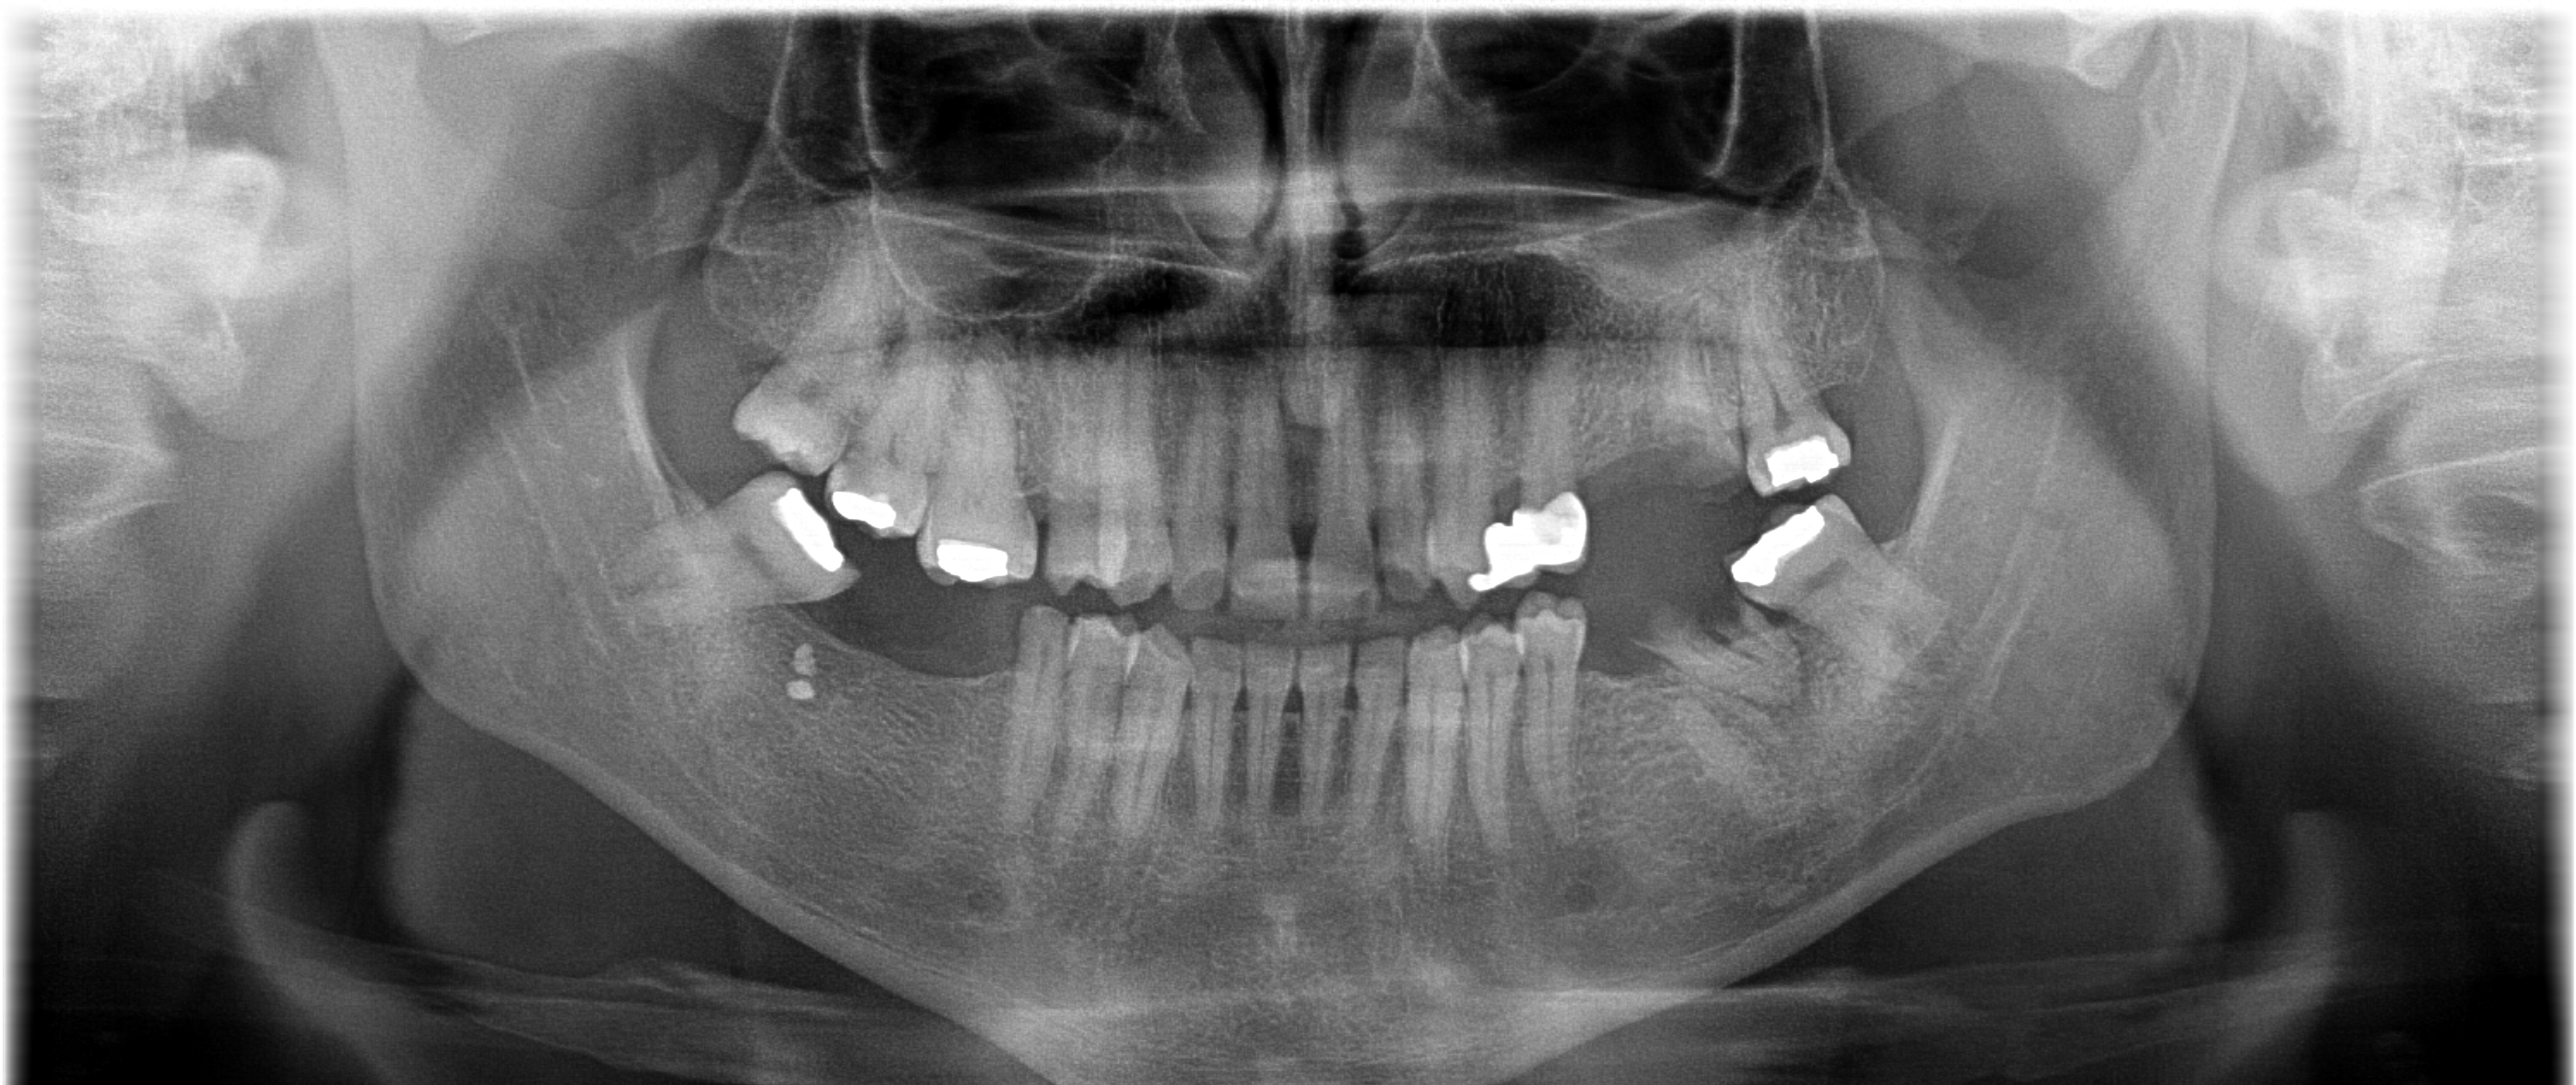cordal: (590, 443, 882, 652), (1690, 484, 1970, 688), (716, 264, 908, 506)
resto_radicular: (1617, 581, 1853, 727)
